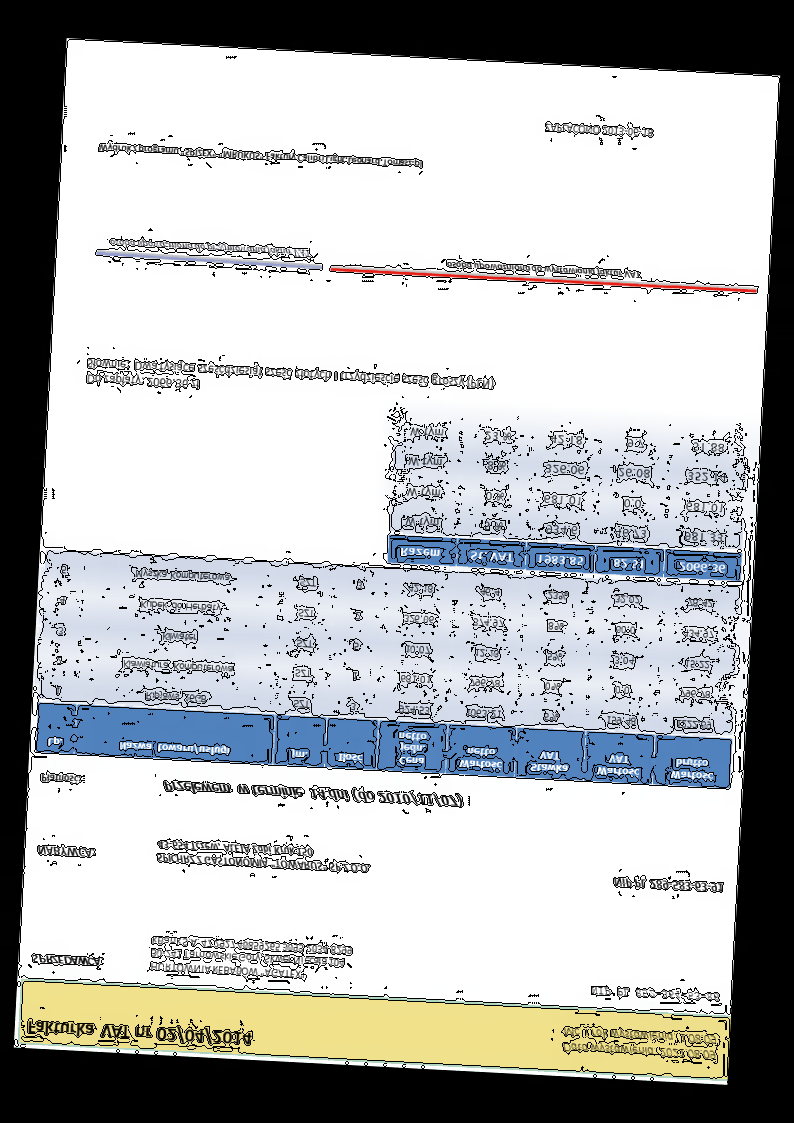Table: (34, 549, 741, 790), (386, 411, 749, 584)
TextBox: (84, 354, 495, 407), (160, 776, 465, 810), (147, 935, 354, 984), (97, 141, 425, 171), (154, 838, 372, 877), (25, 1017, 254, 1048), (560, 1024, 720, 1063), (107, 236, 313, 260), (446, 257, 642, 282), (587, 983, 722, 1005), (611, 875, 726, 895), (542, 122, 657, 140), (30, 953, 105, 970), (34, 843, 98, 862), (37, 772, 83, 787)
